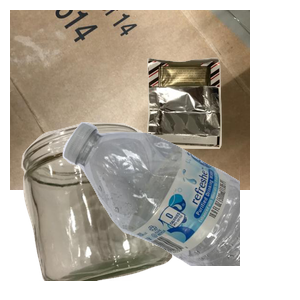cardboard: (10, 10, 250, 190)
glass: (19, 120, 184, 300)
plastic: (60, 120, 300, 300)
trash: (144, 55, 300, 197)
